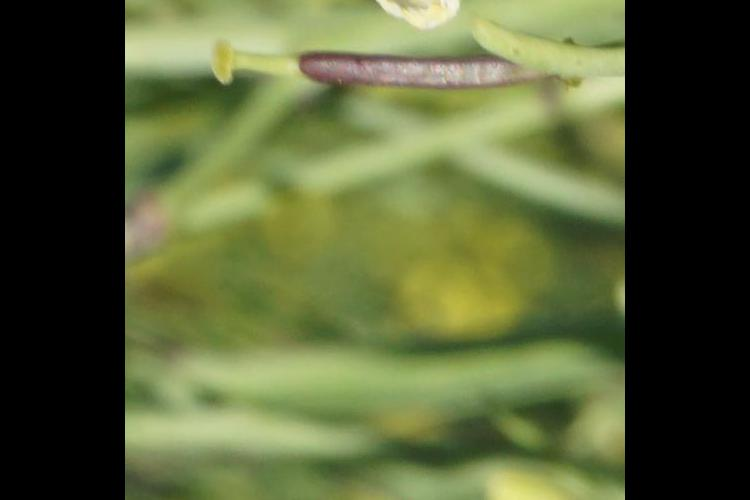pod: (214, 28, 538, 101)
white: (320, 1, 462, 31)
